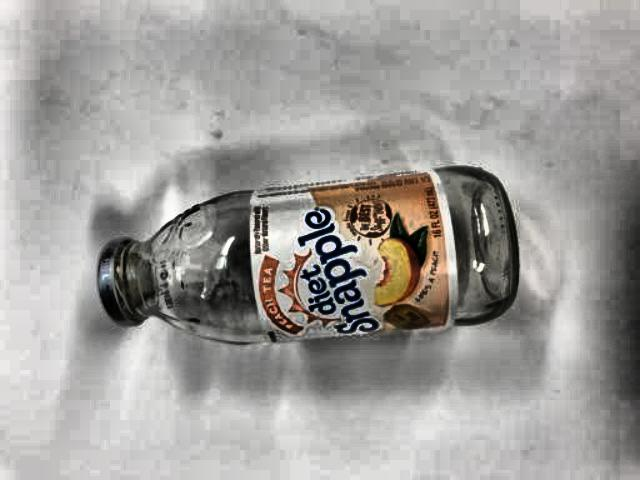Almennt: (96, 147, 519, 366)
